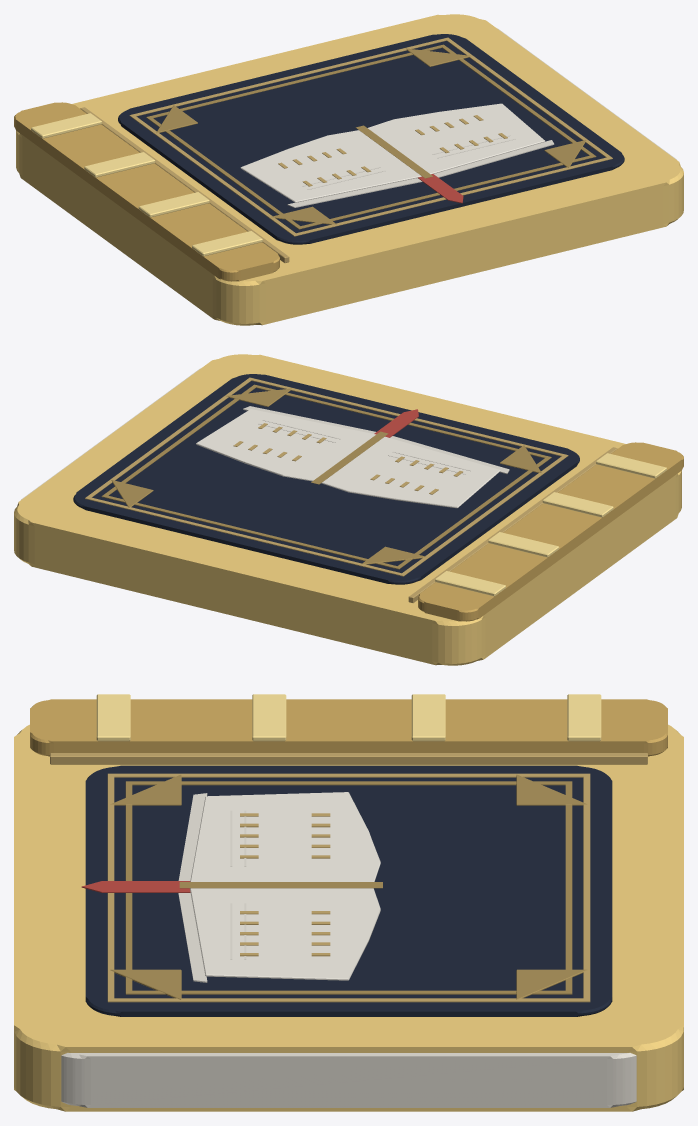
The model's file is review_20.glb.
3 renders of one model, top to bottom at view 1: azimuth 30°, elevation 25°; view 2: azimuth 150°, elevation 25°; view 3: azimuth 270°, elevation 25°, orthographic. The views are drawn at different scales.
Visible parts, largest first — view 1: RV_Cover, RV_Field, RV_Leaves, RV_Spine, RV_Rule0, RV_SpineBands, RV_Rule1, RV_Stacks, RV_Hinge, RV_Ticks, RV_Gutter, RV_Corner11 (+4 smaller); view 2: RV_Cover, RV_Field, RV_Leaves, RV_Spine, RV_Rule0, RV_SpineBands, RV_Rule1, RV_Hinge, RV_Stacks, RV_Ticks, RV_Gutter, RV_Corner1-1 (+4 smaller); view 3: RV_Field, RV_Cover, RV_PageBlock, RV_Leaves, RV_Spine, RV_Rule0, RV_Hinge, RV_Rule1, RV_SpineBands, RV_Stacks, RV_Ticks, RV_Gutter (+5 smaller).
Part boxes in pixels (x1,y1,x2,y2): RV_Cover: [16, 14, 683, 325]; RV_Field: [118, 34, 624, 244]; RV_Leaves: [240, 103, 545, 202]; RV_Spine: [14, 102, 279, 281]; RV_Rule0: [129, 37, 612, 236]; RV_SpineBands: [31, 113, 262, 256]; RV_Rule1: [146, 44, 596, 229]; RV_Stacks: [287, 140, 554, 207]; RV_Hinge: [80, 107, 289, 262]; RV_Ticks: [278, 115, 507, 186]; RV_Gutter: [355, 125, 432, 178]; RV_Corner11: [406, 48, 471, 66]; RV_Cover: [14, 354, 681, 665]; RV_Field: [73, 374, 579, 584]; RV_Leaves: [196, 409, 500, 508]; RV_Spine: [418, 442, 683, 621]; RV_Rule0: [85, 377, 568, 576]; RV_SpineBands: [435, 453, 666, 596]; RV_Rule1: [101, 384, 551, 569]; RV_Hinge: [408, 447, 617, 602]; RV_Stacks: [243, 406, 509, 473]; RV_Ticks: [233, 423, 462, 494]; RV_Gutter: [311, 431, 388, 484]; RV_Corner1-1: [226, 388, 291, 406]; RV_Field: [85, 765, 612, 1016]; RV_Cover: [14, 724, 683, 1111]; RV_PageBlock: [61, 1053, 636, 1107]; RV_Leaves: [190, 792, 380, 980]; RV_Spine: [30, 699, 667, 756]; RV_Rule0: [107, 773, 590, 1002]; RV_Hinge: [50, 753, 647, 764]; RV_Rule1: [125, 781, 572, 994]; RV_SpineBands: [96, 694, 601, 741]; RV_Stacks: [178, 793, 207, 982]; RV_Ticks: [240, 813, 330, 956]; RV_Gutter: [179, 882, 382, 888].
Bounding box in the file's own units: 0.0399 × 0.00474 × 0.0336.
